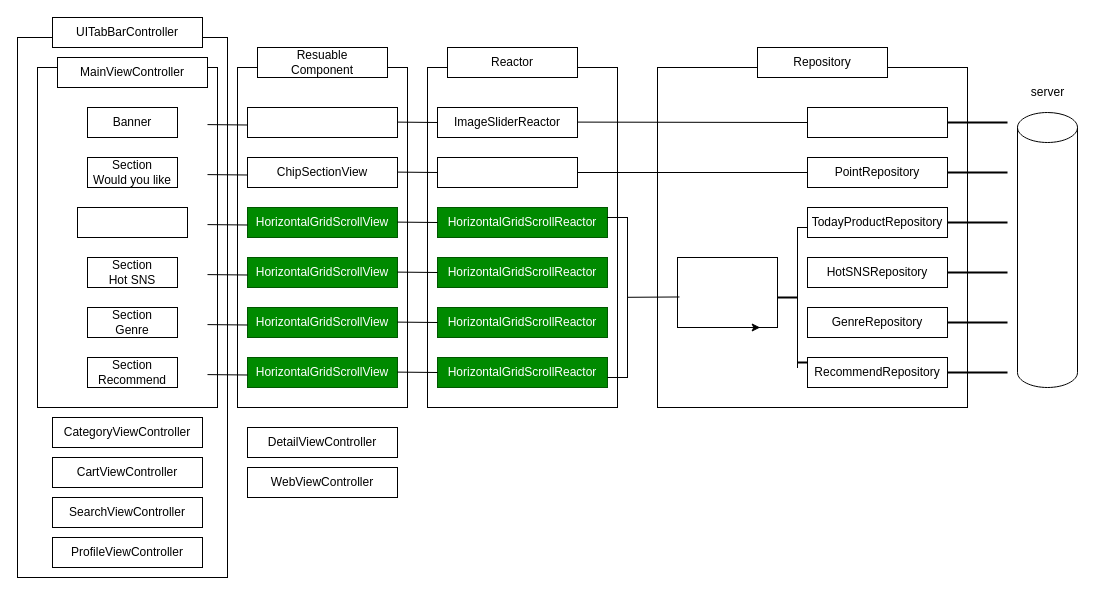
Image size: 1095x595. Some labels were removed from this diagram. The shapes that lost their labels are listed below. From the top down, each one's centre as x and y in pixels, then its label:
At [322,122]: "ImageSliderView".
At [877,122]: "BannerRepository".
At [507,172]: "ChipsSelectionReactor".
At [132,222]: "Section Today Publishing".
At [727,292]: "ProductCommon Respository".
